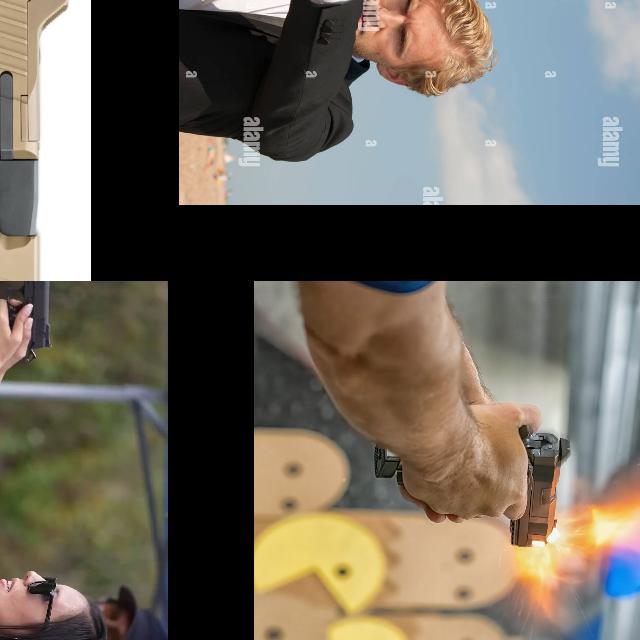handgun: (0, 0, 179, 281), (506, 418, 574, 552), (382, 0, 465, 58), (4, 281, 56, 365)
